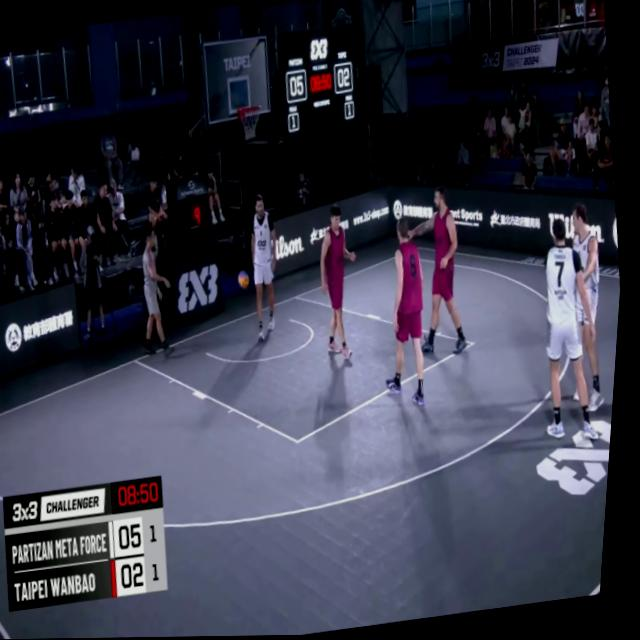ball: (238, 267, 256, 295)
hoop: (237, 101, 267, 146)
player: (527, 215, 617, 451), (554, 204, 625, 418), (369, 215, 444, 411), (398, 189, 480, 362), (311, 203, 375, 362), (243, 194, 294, 341), (132, 222, 185, 358)
